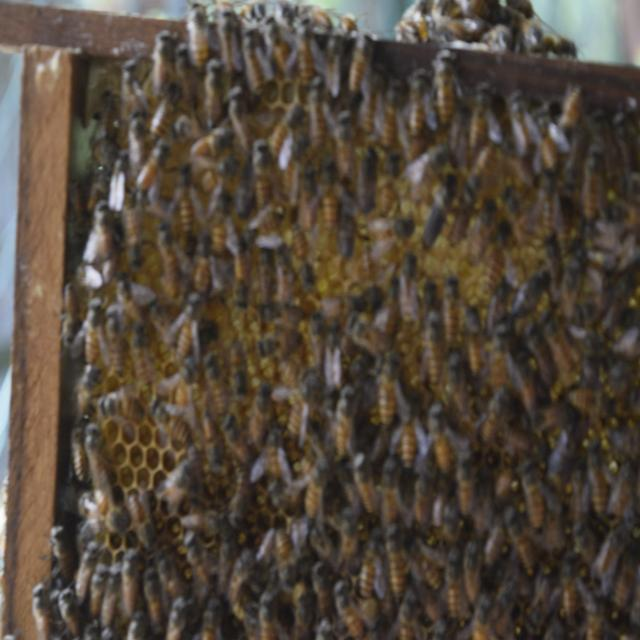honeybee: (462, 296, 500, 414), (185, 2, 224, 106), (519, 378, 570, 444), (298, 440, 335, 526), (114, 249, 157, 317), (126, 306, 166, 379), (169, 287, 208, 358), (314, 148, 345, 236), (97, 372, 151, 422), (101, 295, 133, 376), (474, 377, 501, 472), (202, 155, 238, 226), (498, 508, 530, 586), (222, 197, 250, 286), (189, 236, 224, 307), (202, 340, 239, 407), (246, 365, 280, 437), (407, 153, 454, 205), (532, 172, 566, 243), (329, 575, 366, 640), (417, 186, 462, 238), (156, 453, 200, 506), (523, 309, 551, 391), (278, 89, 310, 160), (88, 480, 127, 538), (116, 112, 154, 170), (166, 353, 208, 405), (166, 164, 196, 236), (253, 138, 279, 221), (150, 211, 177, 290), (76, 296, 104, 372), (357, 282, 386, 354), (283, 216, 312, 287), (540, 12, 578, 66), (522, 466, 555, 528), (375, 56, 397, 149), (576, 147, 602, 224), (195, 115, 232, 169), (74, 244, 107, 304), (436, 540, 463, 613), (584, 426, 608, 508), (230, 436, 253, 520), (410, 530, 441, 592), (371, 213, 407, 266), (383, 409, 419, 462), (352, 148, 378, 221), (455, 103, 481, 176), (90, 192, 114, 271), (288, 389, 318, 452), (374, 334, 398, 412), (294, 576, 323, 640), (427, 397, 452, 471), (87, 532, 111, 609), (54, 579, 84, 640), (257, 226, 276, 322), (608, 109, 633, 181), (330, 376, 355, 447), (504, 88, 532, 151), (351, 454, 374, 530), (445, 252, 462, 354), (204, 568, 231, 632), (461, 520, 487, 586), (260, 430, 288, 490), (85, 422, 111, 486), (154, 20, 177, 92), (478, 230, 503, 296), (307, 558, 339, 609), (230, 334, 252, 408), (492, 18, 529, 62), (309, 310, 336, 370), (264, 320, 300, 365), (471, 588, 502, 640), (161, 396, 195, 443), (420, 281, 439, 364), (588, 278, 614, 338), (247, 20, 266, 100), (127, 474, 153, 532), (220, 14, 242, 80), (162, 540, 182, 612), (588, 502, 612, 562), (156, 90, 178, 155), (272, 523, 296, 582), (506, 174, 528, 238), (396, 263, 414, 339), (535, 120, 560, 174), (347, 18, 364, 96), (202, 407, 220, 476), (297, 3, 314, 76), (179, 500, 208, 542), (397, 592, 422, 640), (310, 74, 329, 137), (434, 36, 452, 102), (411, 458, 430, 520), (510, 271, 534, 320), (610, 440, 624, 523), (116, 541, 135, 600), (158, 596, 183, 640), (254, 601, 282, 640), (29, 576, 46, 640), (375, 504, 393, 564), (554, 550, 574, 604), (414, 41, 428, 117), (588, 574, 604, 640), (482, 66, 496, 140), (125, 595, 148, 640), (383, 543, 404, 592), (139, 542, 155, 606), (579, 360, 595, 424), (325, 15, 339, 88), (332, 115, 352, 166), (577, 450, 590, 528), (231, 548, 254, 592), (566, 230, 578, 314), (404, 13, 436, 44), (610, 536, 627, 594), (496, 461, 514, 514), (458, 444, 472, 511), (561, 86, 582, 130), (66, 533, 82, 590), (292, 163, 309, 214), (356, 541, 372, 594), (461, 8, 481, 50), (621, 370, 636, 420), (366, 45, 374, 138)
